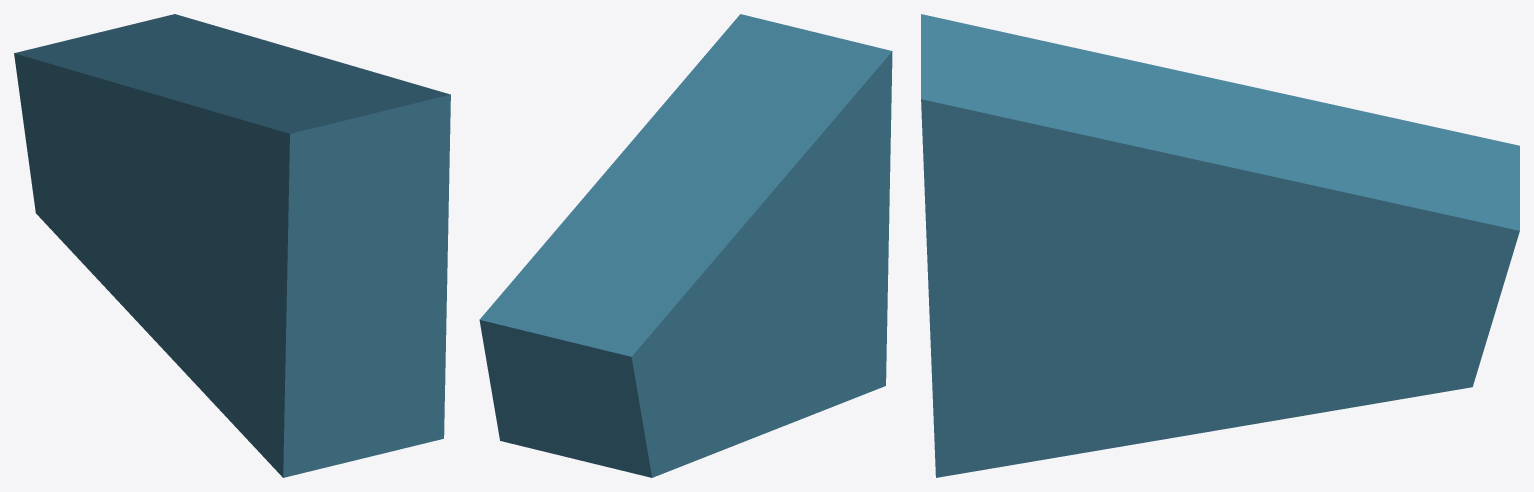
The model's file is NexusC_Trigger_32.fbx.
3 renders of one model, left to right at view 1: azimuth 30°, elevation 25°; view 2: azimuth 150°, elevation 25°; view 3: azimuth 270°, elevation 25°, orthographic. The views are drawn at different scales.
Parts seen in each view (by area): view 1: polySurface22; view 2: polySurface22; view 3: polySurface22.
Part boxes in pixels (bbox=[...]): polySurface22: bbox=[14, 14, 450, 477]; polySurface22: bbox=[479, 14, 892, 477]; polySurface22: bbox=[921, 14, 1519, 477].
Bounding box in the file's own units: 11.18 × 23.18 × 33.21.
